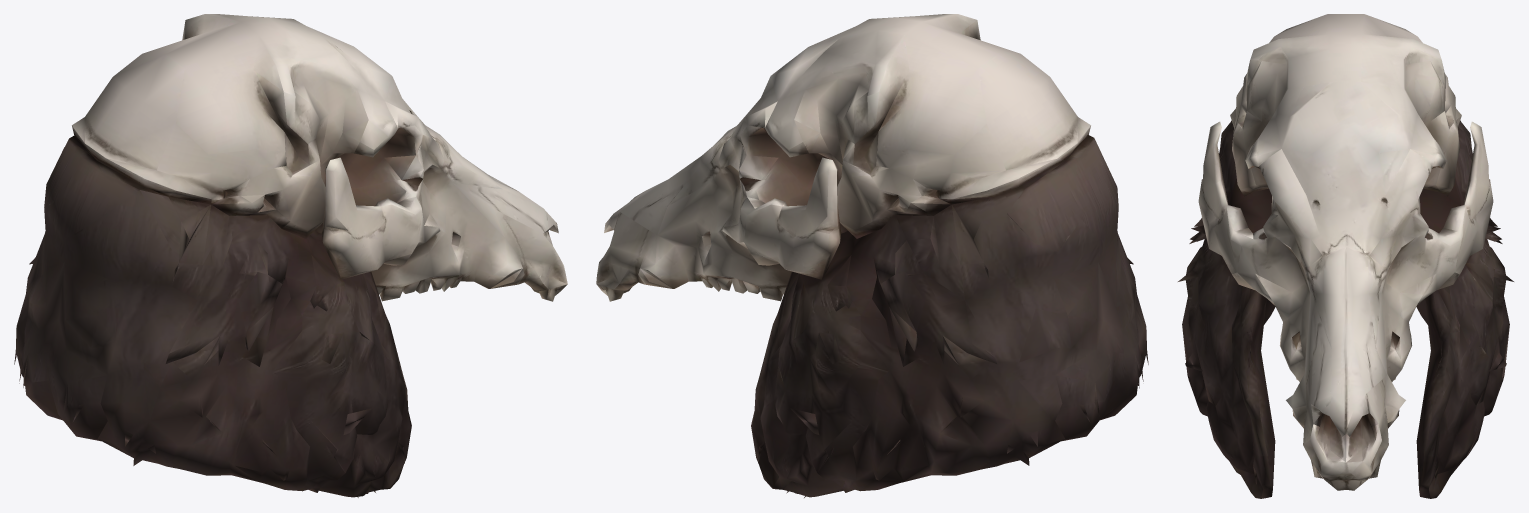
File: skirmisher_skull.glb
3 views of the same model, side by side, from view 1: azimuth 30°, elevation 25°; view 2: azimuth 150°, elevation 25°; view 3: azimuth 270°, elevation 25° (orthographic). The views are drawn at different scales.
Parts seen in each view (by area): view 1: model; view 2: model; view 3: model.
Part boxes in pixels (box(x1,y1,x2,y2)): model: box(14, 14, 567, 497); model: box(596, 14, 1148, 497); model: box(1178, 14, 1513, 498).
Bounding box in the file's own units: 1.2 × 1 × 0.718.
1 material, 1 textured.
